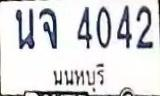0: (95, 5, 111, 48)
2: (136, 5, 152, 48)
4: (76, 5, 92, 48), (116, 4, 131, 48)
A08: (38, 7, 58, 49)
A25: (14, 8, 35, 50)
NBI: (48, 61, 107, 93)
